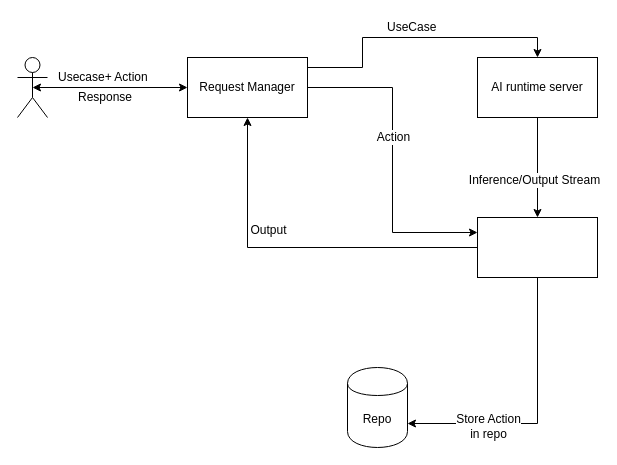
Image size: 617x465. Some labels were removed from this diagram. Here are the shapes that lost their labels. From the top down, the centre of each, then its label:
At (x=32, y=87): "Actor".
At (x=537, y=247): "Notification & Action Service".
